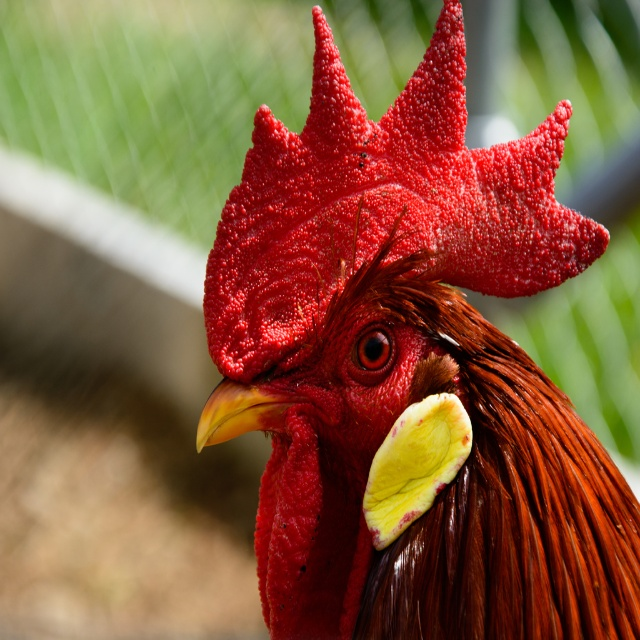Chicken: (196, 0, 640, 640)
